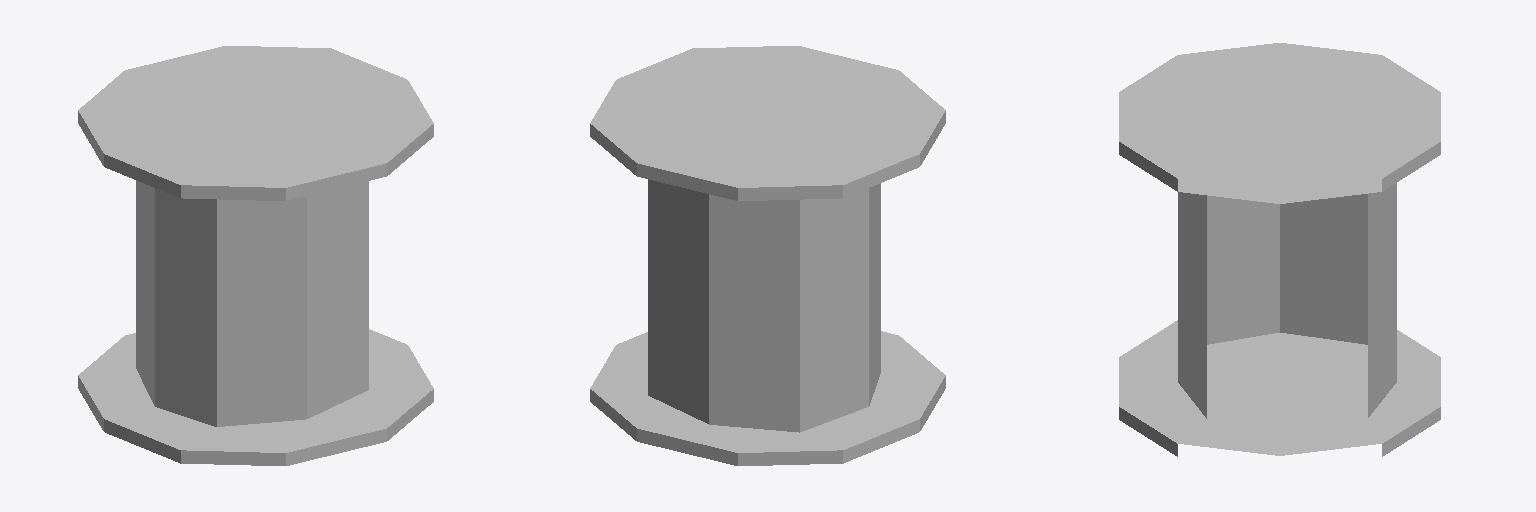
Rendered from wood_reel.obj.
3 views of the same model, side by side, from view 1: azimuth 30°, elevation 25°; view 2: azimuth 150°, elevation 25°; view 3: azimuth 270°, elevation 25° (orthographic).
Bounding box in the file's own units: 2.4 × 2.1 × 2.2.